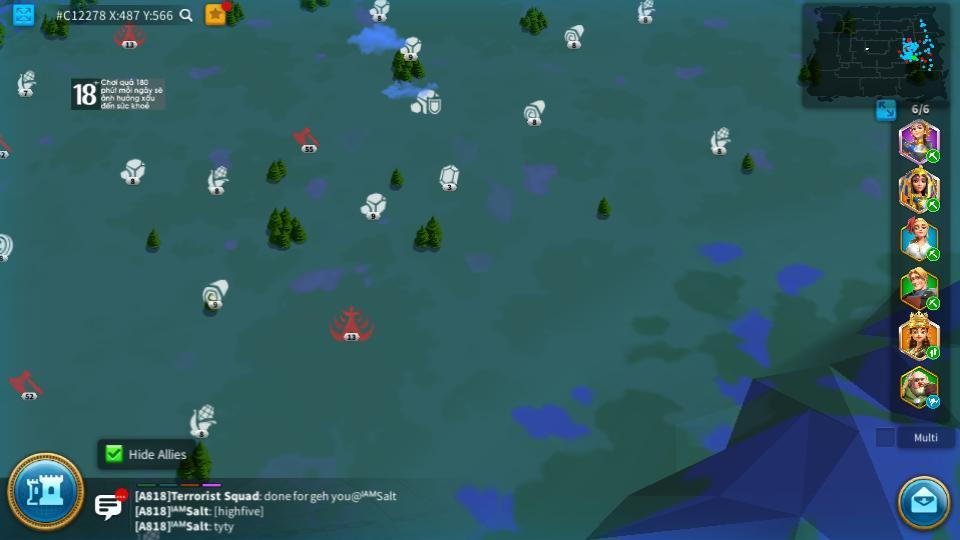gem-z-out: (437, 164, 461, 189)
march_idle: (925, 394, 942, 408)
march_marching: (925, 196, 941, 211), (925, 345, 941, 359), (925, 150, 942, 162), (925, 248, 942, 260), (925, 297, 942, 308)
